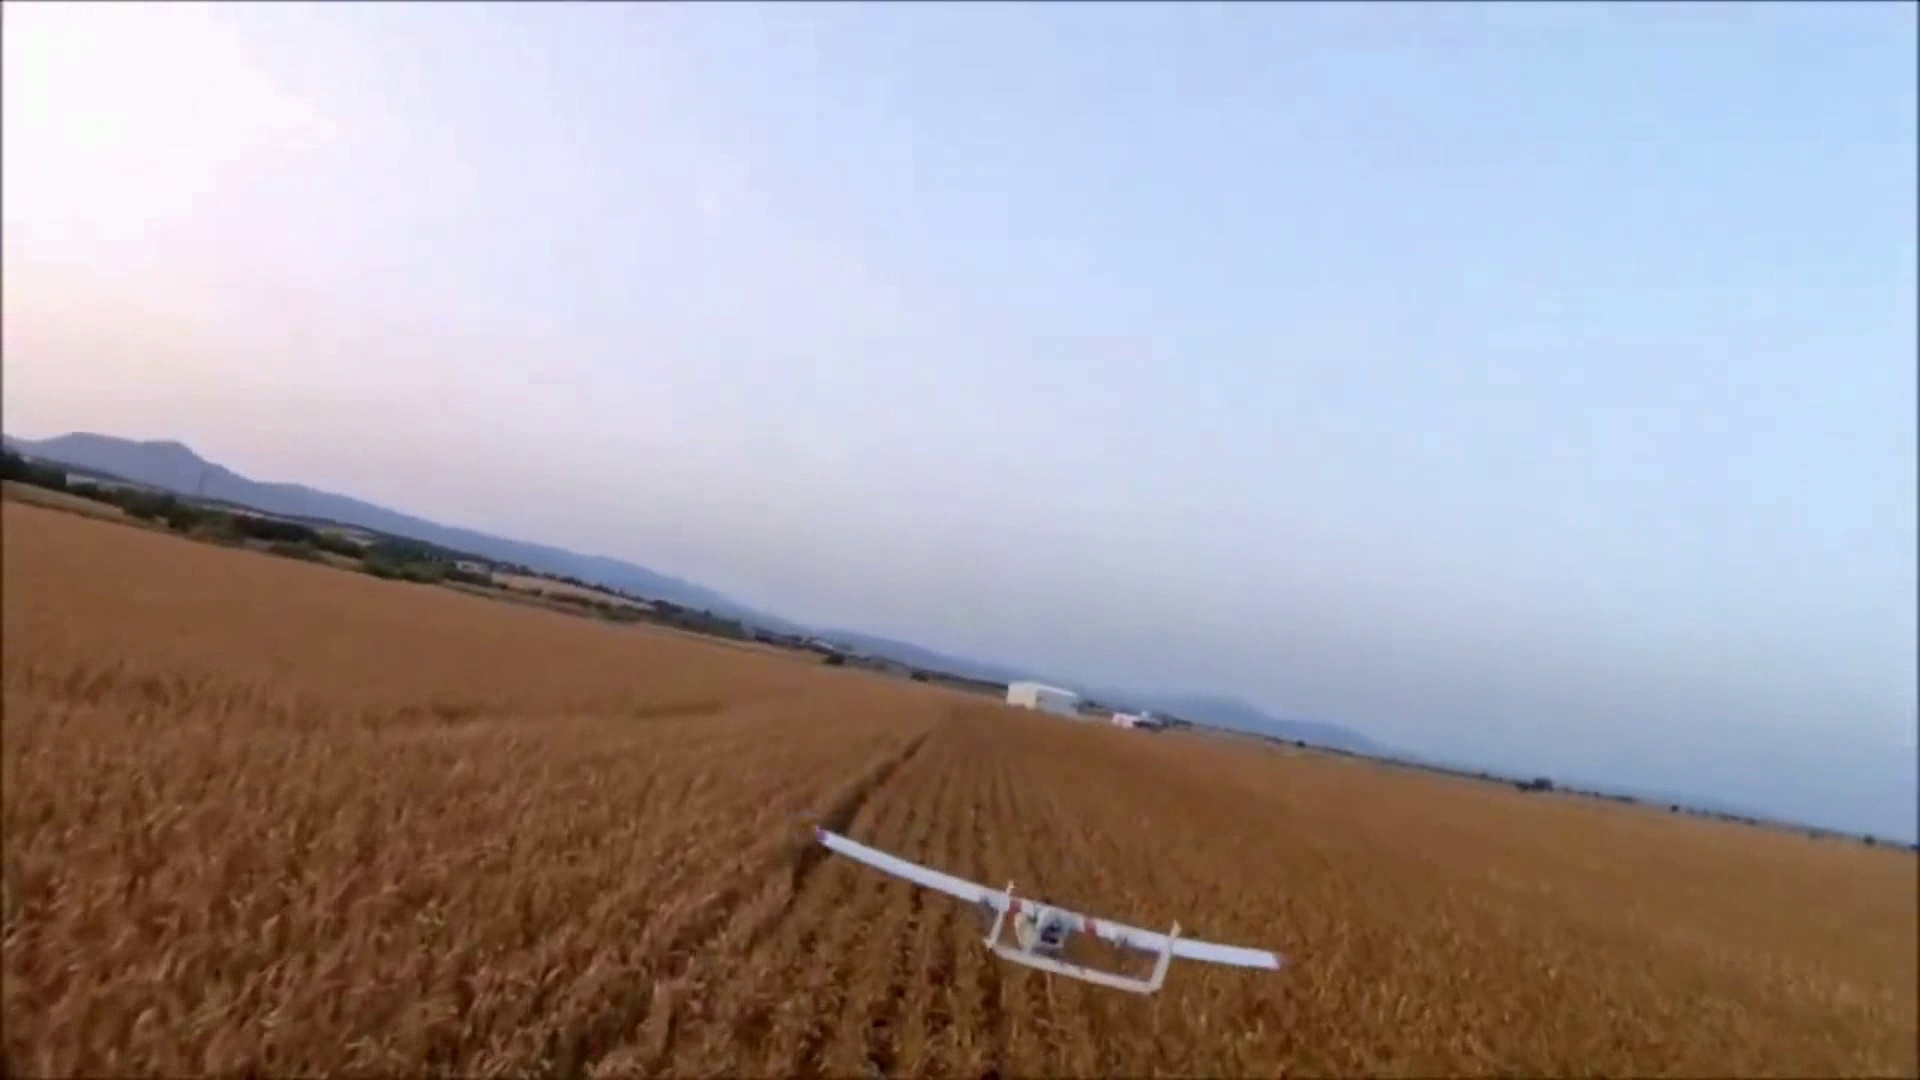airplane: (809, 828, 1283, 996)
